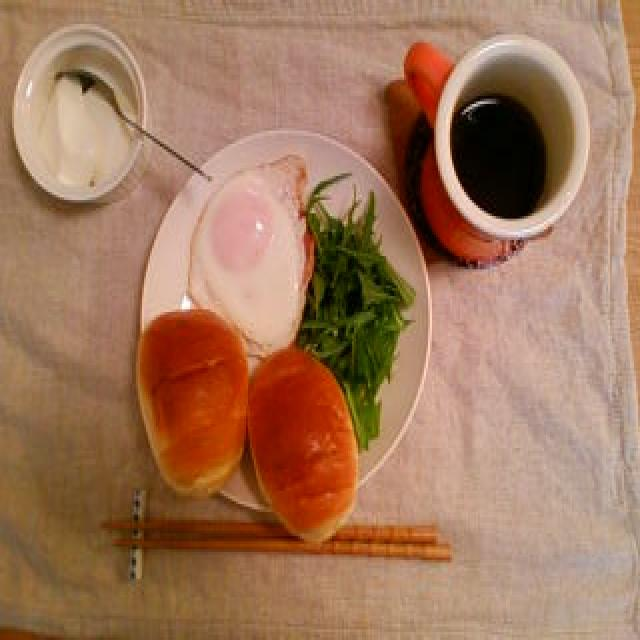蔬菜料理: (300, 182, 418, 438)
面包点心: (244, 352, 368, 541), (136, 304, 254, 501)
鸡蛋料理: (182, 152, 316, 352)
